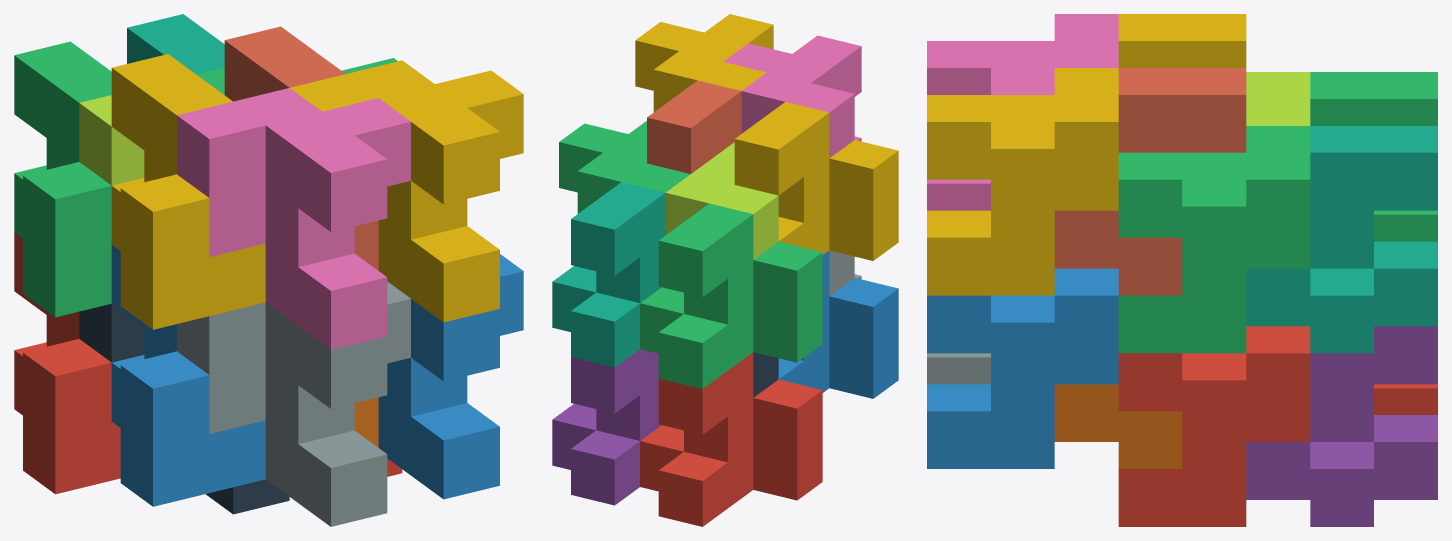
File: tiling.obj
The picture shows the model from 3 angles, left to right: view 1: azimuth 30°, elevation 25°; view 2: azimuth 150°, elevation 25°; view 3: azimuth 270°, elevation 25°; orthographic projection. The views are drawn at different scales.
Visible parts, largest first — view 1: copy_2_domain_4, copy_2_domain_2, copy_2_domain_8, copy_1_domain_4, copy_1_domain_3, copy_2_domain_6, copy_1_domain_2, copy_1_domain_1, copy_1_domain_8, copy_2_domain_1, copy_1_domain_7, copy_2_domain_3 (+2 smaller); view 2: copy_1_domain_3, copy_1_domain_1, copy_1_domain_4, copy_1_domain_7, copy_1_domain_5, copy_1_domain_2, copy_2_domain_4, copy_2_domain_8, copy_1_domain_8, copy_2_domain_7, copy_2_domain_3, copy_2_domain_2 (+1 smaller); view 3: copy_2_domain_8, copy_2_domain_7, copy_1_domain_7, copy_2_domain_6, copy_2_domain_5, copy_1_domain_5, copy_1_domain_8, copy_2_domain_4, copy_1_domain_3, copy_1_domain_6, copy_1_domain_4, copy_2_domain_3 (+2 smaller).
Boxes of the visible parts, left/top/right/bottom form: copy_2_domain_4: left=177, top=88, right=410, bottom=349; copy_2_domain_2: left=177, top=281, right=410, bottom=526; copy_2_domain_8: left=290, top=60, right=523, bottom=322; copy_1_domain_4: left=111, top=54, right=265, bottom=329; copy_1_domain_3: left=14, top=41, right=111, bottom=317; copy_2_domain_6: left=378, top=254, right=523, bottom=499; copy_1_domain_2: left=111, top=245, right=265, bottom=506; copy_1_domain_1: left=14, top=232, right=120, bottom=494; copy_1_domain_8: left=224, top=26, right=378, bottom=270; copy_2_domain_1: left=79, top=303, right=289, bottom=514; copy_1_domain_7: left=127, top=14, right=224, bottom=74; copy_2_domain_3: left=79, top=95, right=144, bottom=185; copy_1_domain_3: left=640, top=203, right=822, bottom=388; copy_1_domain_1: left=640, top=352, right=822, bottom=526; copy_1_domain_4: left=734, top=102, right=898, bottom=260; copy_1_domain_7: left=552, top=182, right=665, bottom=367; copy_1_domain_5: left=552, top=349, right=661, bottom=505; copy_1_domain_2: left=778, top=251, right=898, bottom=398; copy_2_domain_4: left=723, top=35, right=861, bottom=157; copy_2_domain_8: left=635, top=14, right=773, bottom=111; copy_1_domain_8: left=647, top=80, right=741, bottom=173; copy_2_domain_7: left=559, top=121, right=690, bottom=213; copy_2_domain_3: left=665, top=142, right=778, bottom=259; copy_2_domain_2: left=829, top=250, right=861, bottom=295; copy_2_domain_8: left=927, top=68, right=1118, bottom=295; copy_2_domain_7: left=1118, top=126, right=1310, bottom=353; copy_1_domain_7: left=1246, top=126, right=1437, bottom=353; copy_2_domain_6: left=927, top=268, right=1118, bottom=468; copy_2_domain_5: left=1118, top=326, right=1310, bottom=526; copy_1_domain_5: left=1246, top=326, right=1437, bottom=526; copy_1_domain_8: left=1054, top=68, right=1246, bottom=295; copy_2_domain_4: left=927, top=14, right=1118, bottom=210; copy_1_domain_3: left=1310, top=72, right=1437, bottom=241; copy_1_domain_6: left=1054, top=384, right=1182, bottom=468; copy_1_domain_4: left=1118, top=14, right=1246, bottom=67; copy_2_domain_3: left=1246, top=72, right=1310, bottom=125.
Bounding box in the file's own units: 6 × 7 × 8.
